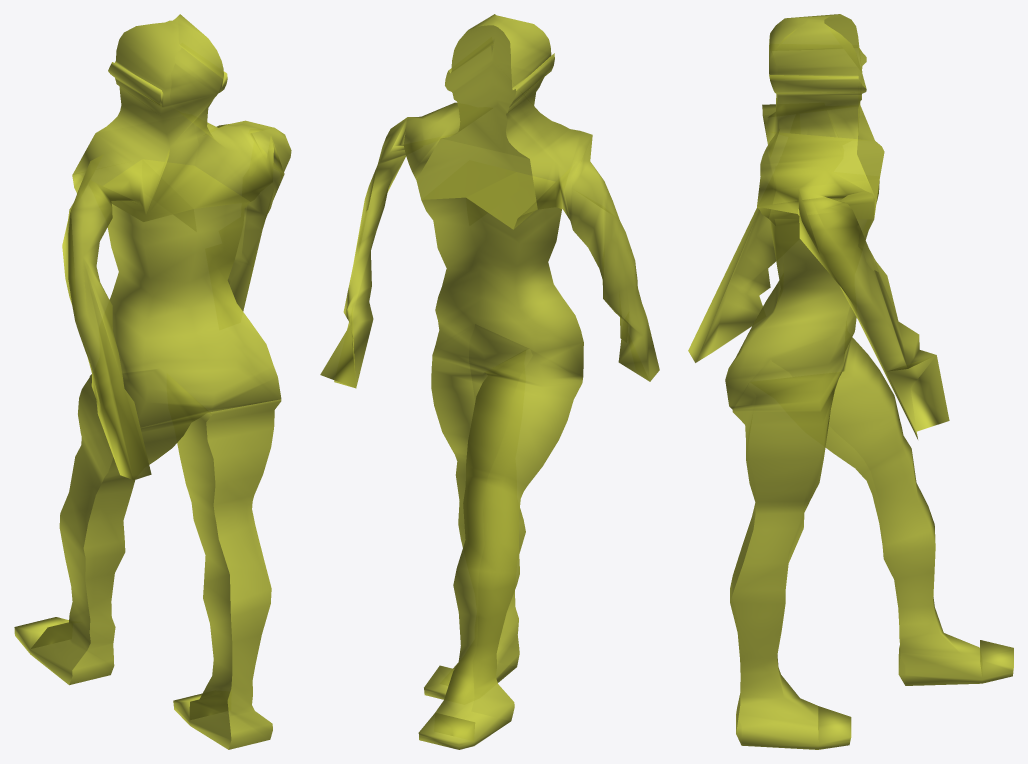
The model's file is woman_000011.obj.
3 views of the same model, side by side, from view 1: azimuth 30°, elevation 25°; view 2: azimuth 150°, elevation 25°; view 3: azimuth 270°, elevation 25° (orthographic). The views are drawn at different scales.
Parts seen in each view (by area): view 1: Cube_Cube.001; view 2: Cube_Cube.001; view 3: Cube_Cube.001.
Boxes of the visible parts, x1=… form: Cube_Cube.001: x1=14, y1=14, x2=291, y2=749; Cube_Cube.001: x1=320, y1=14, x2=659, y2=749; Cube_Cube.001: x1=688, y1=14, x2=1013, y2=749.
Size of the model in its own units: 3.51 by 9.95 by 4.19.
